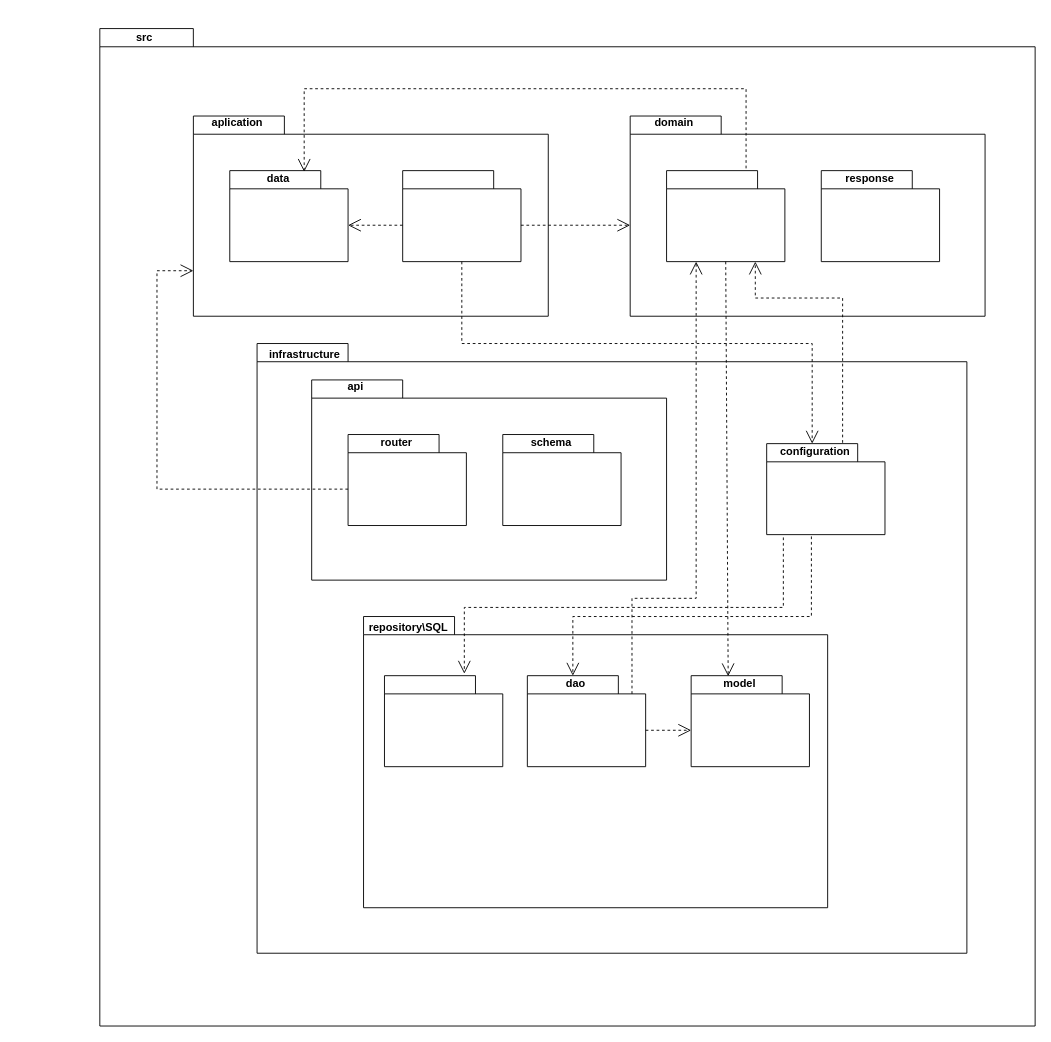
Image size: 1051x1042. Some labels were removed from this diagram. The centre of each missing label's shape, as x and y in pixels:
adapter: the point at 443,721
repository: the point at 725,216
service: the point at 461,216
